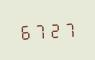seven: (32, 20, 45, 40), (60, 19, 73, 38)
six: (18, 21, 31, 40)
two: (46, 20, 59, 39)
